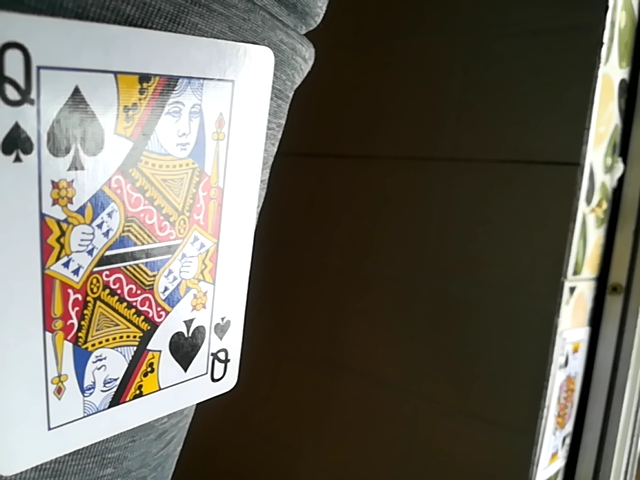ht q: (13, 10, 271, 480)
